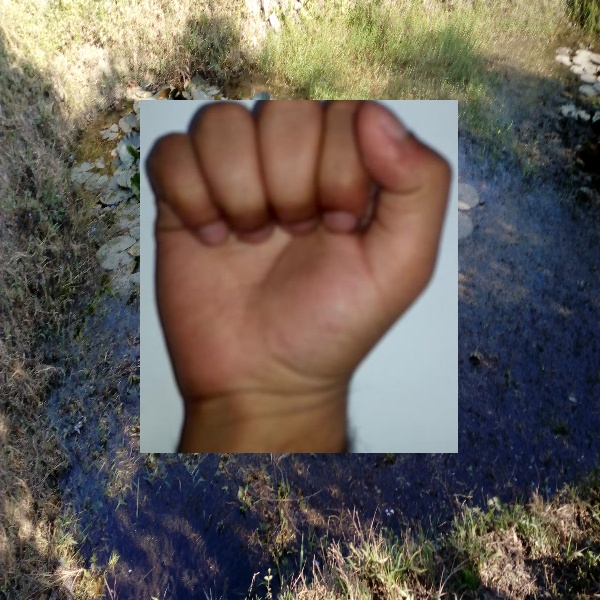A: (140, 100, 458, 453)
